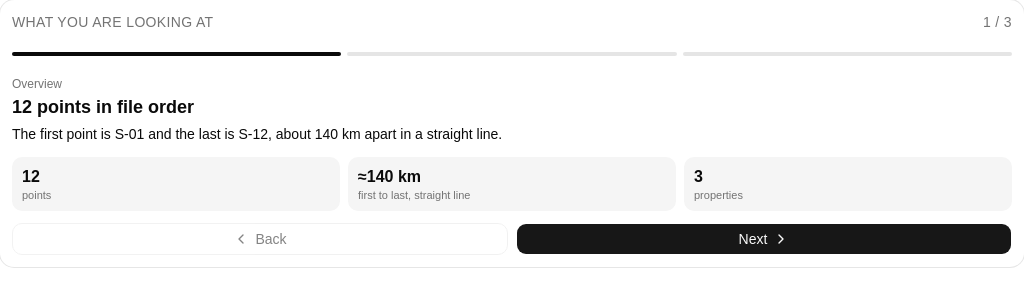
Test: StoryPanel › jumps to a chapter from the bars, and marks the current one
Click the button named "Chapter 3: depth" at (847, 54), box [683,44,1012,64]
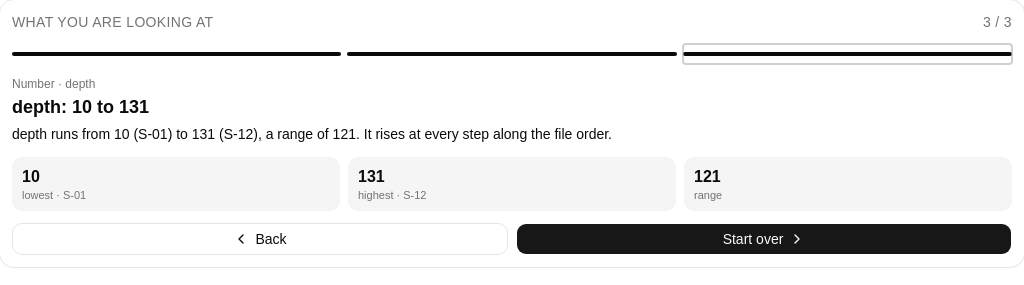
Now the text "3 / 3" is shown, box [983,12,1012,32]
